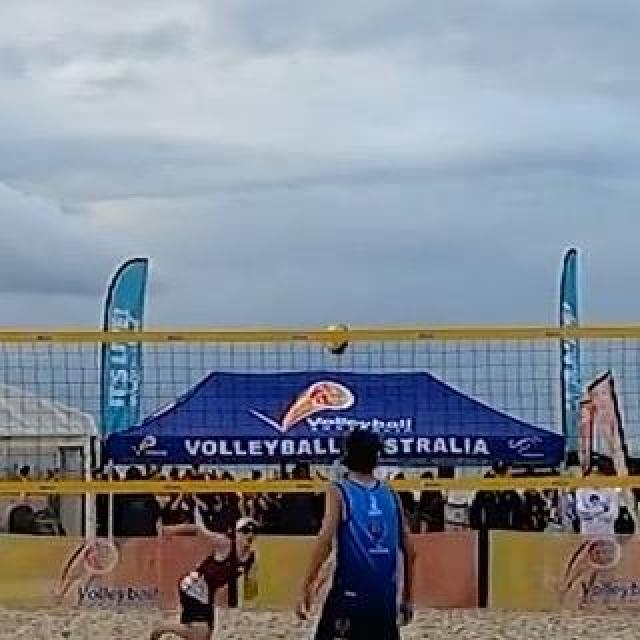volleyball: (324, 324, 350, 352)
